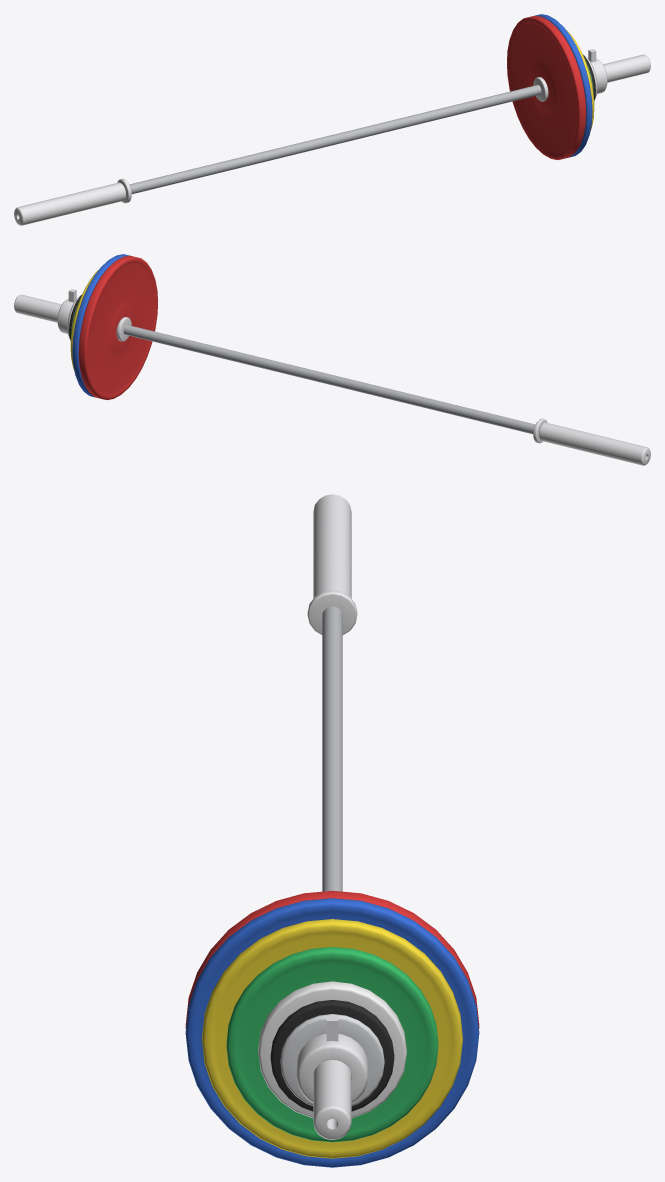
The model's file is Barbell_01.fbx.
3 renders of one model, top to bottom at view 1: azimuth 30°, elevation 25°; view 2: azimuth 150°, elevation 25°; view 3: azimuth 270°, elevation 25°, orthographic. The views are drawn at different scales.
Parts seen in each view (by area): view 1: Plate_25, Bar_Shaft, Bar_Sleeves, Plate_20, Collar_Lock; view 2: Plate_25, Bar_Shaft, Bar_Sleeves, Plate_20, Collar_Lock; view 3: Plate_15, Plate_10, Plate_20, Bar_Sleeves, Bar_Shaft, Plate_5, Plate_1_25, Plate_2_5, Collar_Lock, Plate_25.
Boxes of the visible parts, x1=… form: Plate_25: x1=507, y1=15, x2=586, y2=159; Bar_Shaft: x1=129, y1=85, x2=541, y2=194; Bar_Sleeves: x1=14, y1=54, x2=650, y2=225; Plate_20: x1=535, y1=14, x2=592, y2=157; Collar_Lock: x1=588, y1=49, x2=607, y2=93; Plate_25: x1=78, y1=255, x2=157, y2=399; Bar_Shaft: x1=123, y1=325, x2=535, y2=434; Bar_Sleeves: x1=14, y1=294, x2=650, y2=465; Plate_20: x1=72, y1=254, x2=129, y2=397; Collar_Lock: x1=57, y1=289, x2=76, y2=333; Plate_15: x1=202, y1=919, x2=462, y2=1158; Plate_10: x1=226, y1=947, x2=438, y2=1142; Plate_20: x1=185, y1=898, x2=479, y2=1167; Bar_Sleeves: x1=307, y1=494, x2=357, y2=1139; Bar_Shaft: x1=322, y1=606, x2=342, y2=891; Plate_5: x1=258, y1=981, x2=406, y2=1118; Plate_1_25: x1=280, y1=1014, x2=384, y2=1105; Plate_2_5: x1=270, y1=1000, x2=394, y2=1111; Collar_Lock: x1=296, y1=1016, x2=368, y2=1102; Plate_25: x1=185, y1=890, x2=479, y2=1028.
Size of the model in its own units: 9.9 by 2 by 2.
